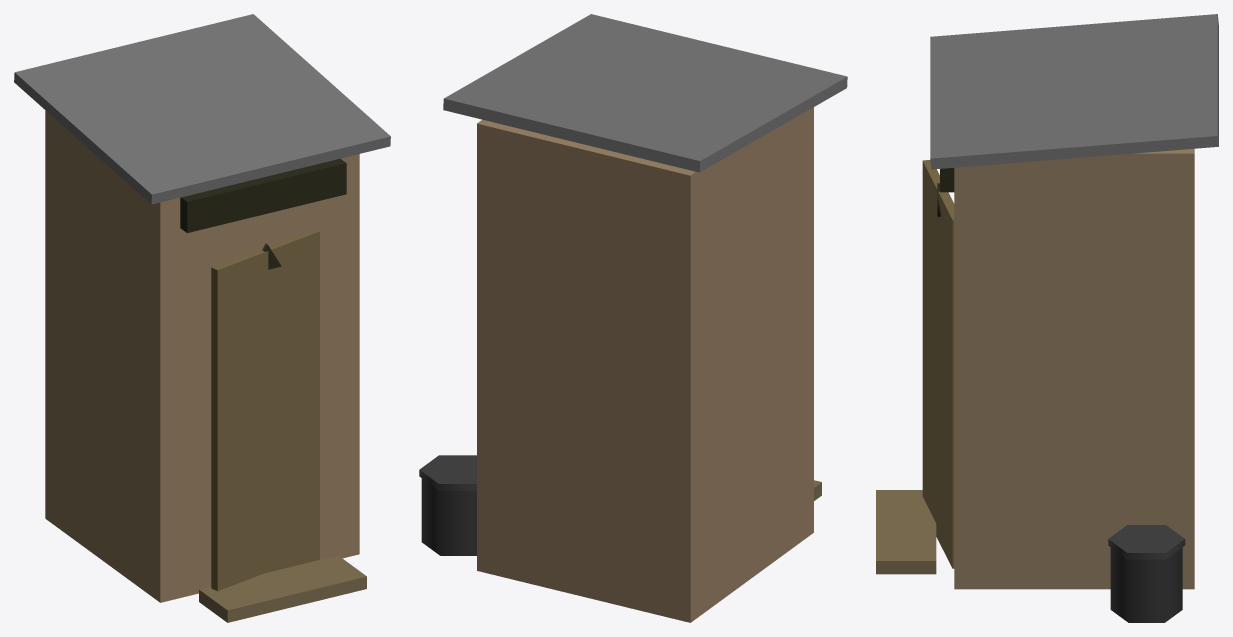
The model's file is latrine.glb.
The picture shows the model from 3 angles, left to right: view 1: azimuth 30°, elevation 25°; view 2: azimuth 150°, elevation 25°; view 3: azimuth 270°, elevation 25°; orthographic projection. The views are drawn at different scales.
Parts seen in each view (by area): view 1: Mesh_Walls, Mesh_RoofMesh, Mesh_DoorMesh, Mesh_VentGap, Mesh_Step; view 2: Mesh_Walls, Mesh_RoofMesh, Mesh_BurnBarrel, Mesh_BarrelRim; view 3: Mesh_Walls, Mesh_RoofMesh, Mesh_DoorMesh, Mesh_Step, Mesh_BurnBarrel, Mesh_BarrelRim.
Part boxes in pixels (x1,y1,x2,y2): Mesh_Walls: (45, 110, 359, 602); Mesh_RoofMesh: (14, 14, 390, 204); Mesh_DoorMesh: (211, 231, 319, 591); Mesh_VentGap: (180, 158, 346, 232); Mesh_Step: (199, 555, 366, 622); Mesh_Walls: (477, 107, 813, 622); Mesh_RoofMesh: (443, 14, 847, 172); Mesh_BurnBarrel: (421, 478, 476, 555); Mesh_BarrelRim: (419, 455, 476, 490); Mesh_Walls: (954, 148, 1194, 589); Mesh_RoofMesh: (930, 14, 1218, 169); Mesh_DoorMesh: (922, 160, 954, 568); Mesh_Step: (876, 490, 936, 574); Mesh_BurnBarrel: (1110, 547, 1182, 622); Mesh_BarrelRim: (1108, 525, 1185, 559).
Bounding box in the file's own units: 1.44 × 2.13 × 1.42.
